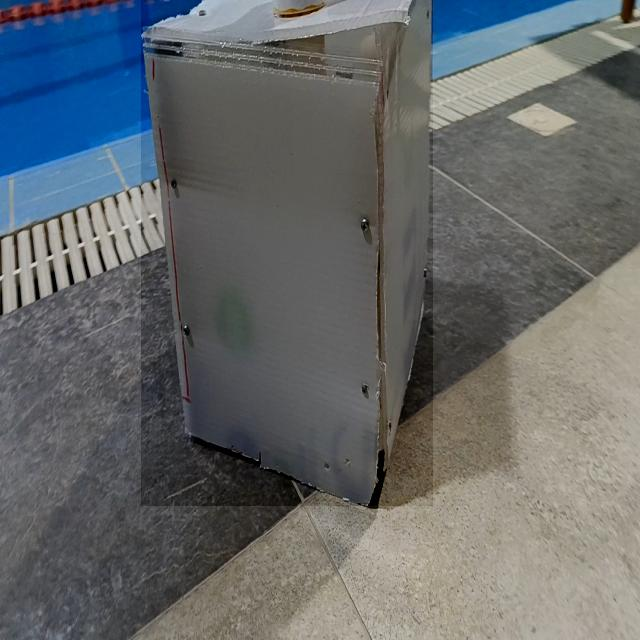Cube: (142, 1, 434, 507)
